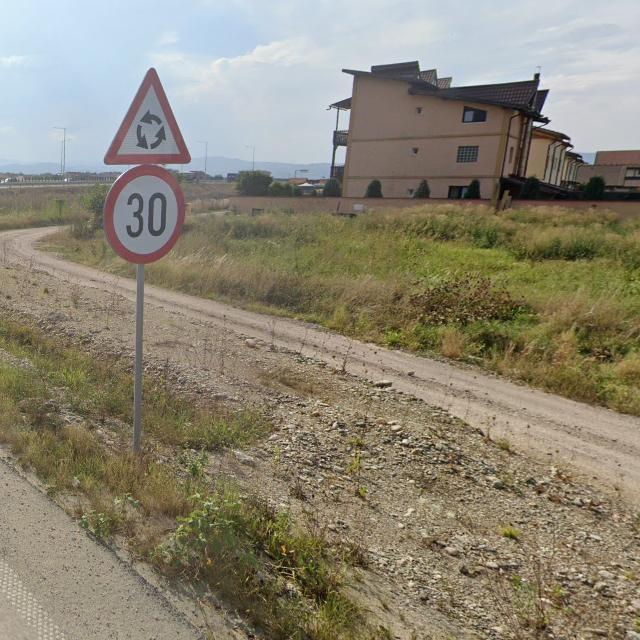forb_speed_over_30: (105, 166, 185, 264)
